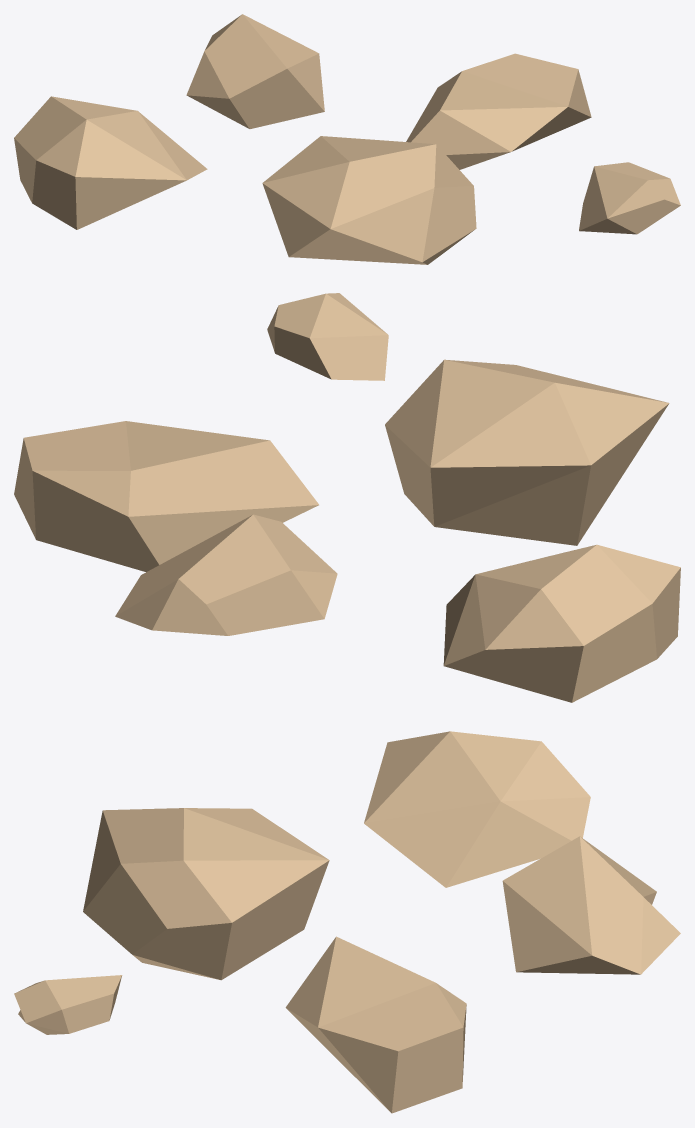
The model's file is rocks-small.glb.
3 renders of one model, top to bottom at view 1: azimuth 30°, elevation 25°; view 2: azimuth 150°, elevation 25°; view 3: azimuth 270°, elevation 25°, orthographic. The views are drawn at different scales.
Visible parts, largest first — view 1: rocks-small; view 2: rocks-small; view 3: rocks-small.
Boxes of the visible parts, x1,y1,x2,y2 form: rocks-small: [14, 14, 680, 264]; rocks-small: [14, 293, 680, 702]; rocks-small: [14, 731, 680, 1113].
Size of the model in its own units: 1.11 by 0.2415 by 1.05.
